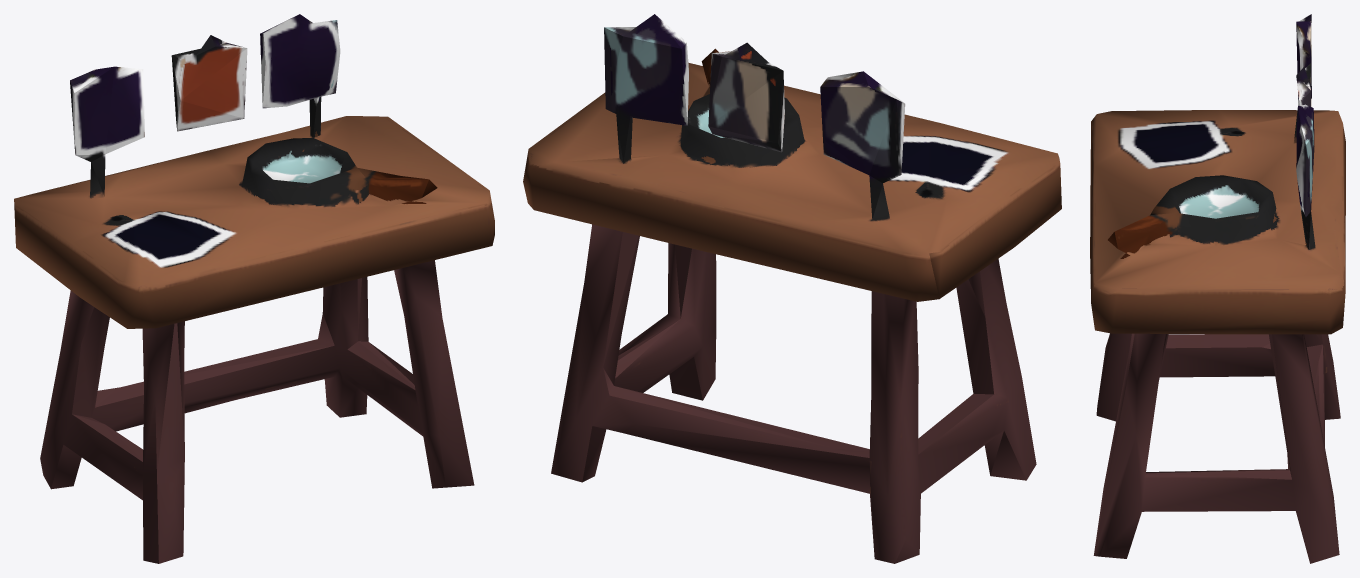
Rendered from picture-workbench.glb.
3 renders of one model, left to right at view 1: azimuth 30°, elevation 25°; view 2: azimuth 150°, elevation 25°; view 3: azimuth 270°, elevation 25°, orthographic. The views are drawn at different scales.
Visible parts, largest first — view 1: geometry_0.001; view 2: geometry_0.001; view 3: geometry_0.001.
Part boxes in pixels (left/top/right/bottom): geometry_0.001: left=14, top=14, right=494, bottom=563; geometry_0.001: left=523, top=14, right=1061, bottom=563; geometry_0.001: left=1090, top=14, right=1345, bottom=563.
Size of the model in its own units: 0.925 by 1 by 0.5474.
Materials: 1 (1 with a texture image).
